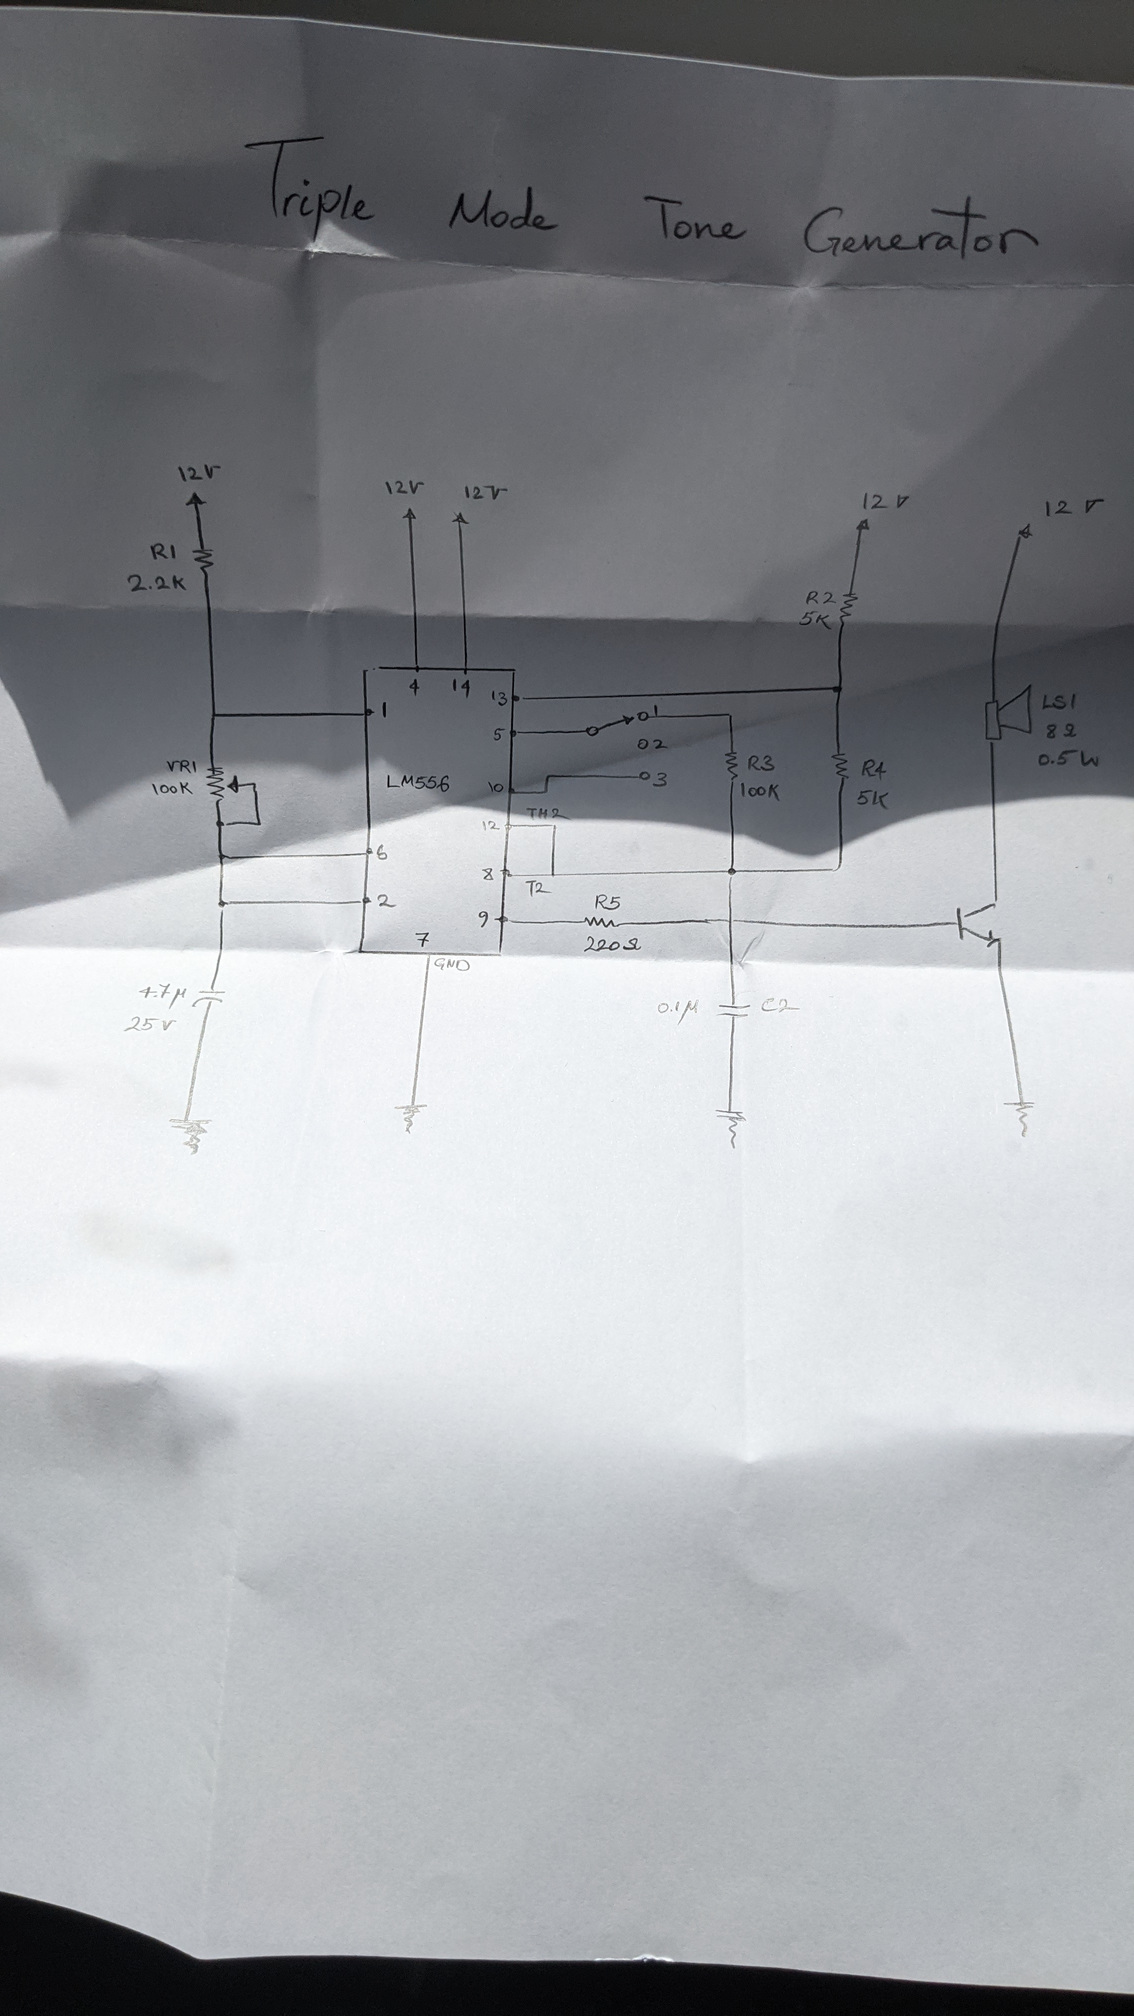capacitor.unpolarized: (190, 984, 226, 1014), (712, 1001, 752, 1022)
crossover: (724, 915, 738, 926)
gnd: (165, 1113, 213, 1158), (713, 1105, 750, 1153), (1002, 1098, 1038, 1140), (393, 1101, 428, 1135)
integrated_circuit: (354, 665, 528, 958)
junction: (216, 896, 233, 914), (831, 681, 847, 696), (215, 817, 233, 831), (726, 864, 739, 879), (208, 708, 222, 721), (216, 852, 231, 864), (253, 817, 267, 829), (829, 861, 845, 872), (249, 780, 262, 792), (548, 870, 559, 881), (724, 710, 737, 720), (548, 821, 559, 831), (541, 786, 552, 796), (544, 771, 554, 781)
resistor: (836, 590, 861, 627), (188, 544, 216, 576), (829, 748, 850, 781), (582, 912, 622, 929), (721, 748, 739, 781)
resistor.adjustable: (204, 764, 242, 804)
speaker: (980, 681, 1036, 746)
switch: (584, 709, 651, 752)
terminal: (636, 768, 652, 782)
text: (240, 130, 1044, 269), (125, 570, 190, 595), (1037, 748, 1102, 773), (138, 980, 188, 1012), (1043, 496, 1108, 519), (385, 771, 453, 793), (656, 997, 702, 1027), (582, 933, 642, 954), (860, 490, 912, 512), (120, 1015, 179, 1034), (174, 462, 224, 483), (738, 780, 784, 802), (461, 482, 510, 503), (382, 476, 426, 497), (856, 786, 892, 811), (1038, 691, 1080, 712), (150, 780, 197, 798), (759, 996, 802, 1015), (796, 609, 834, 631), (523, 806, 575, 821), (432, 955, 472, 975), (1043, 720, 1080, 741), (858, 757, 888, 782), (163, 756, 199, 775), (746, 752, 777, 774), (148, 540, 180, 561), (523, 878, 554, 899), (803, 588, 838, 606), (593, 892, 622, 912), (450, 676, 474, 701), (649, 770, 670, 791), (489, 688, 508, 708), (375, 892, 397, 908), (413, 930, 432, 948), (374, 842, 390, 863), (406, 676, 422, 696), (651, 735, 672, 752), (480, 817, 503, 832), (476, 908, 490, 930), (490, 726, 507, 744), (486, 778, 505, 793), (480, 865, 496, 882), (379, 698, 390, 720), (651, 702, 662, 719)
transistor: (951, 894, 1009, 951)
vss: (183, 489, 210, 510), (1014, 521, 1036, 543), (450, 510, 474, 529), (402, 505, 420, 522), (853, 516, 872, 532)
